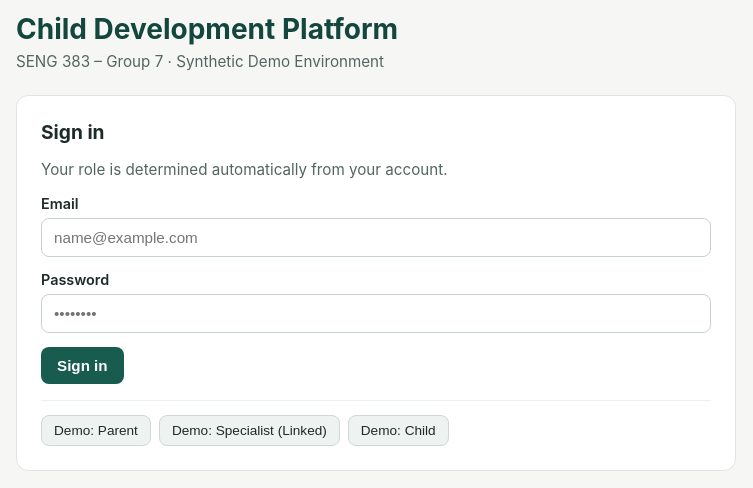
Scenario: M2 & M3 UI flows (Specialist Linking & Weekly Schedule) › allows child to view Tasks tab and mark a pending task as done
Click the button "Demo: Child".
click(398, 430)  # box [348, 415, 449, 446]
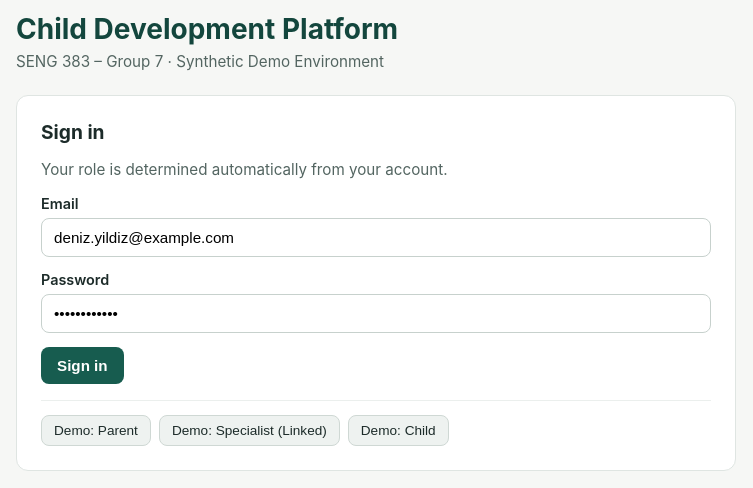
Click the button "Sign in".
click(82, 365)  # box [41, 347, 124, 384]
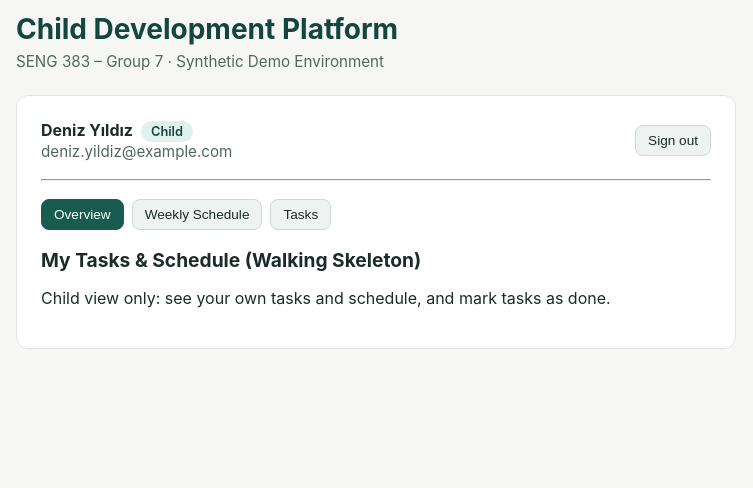
Click the button "Tasks".
click(301, 214)  # box [270, 199, 331, 230]
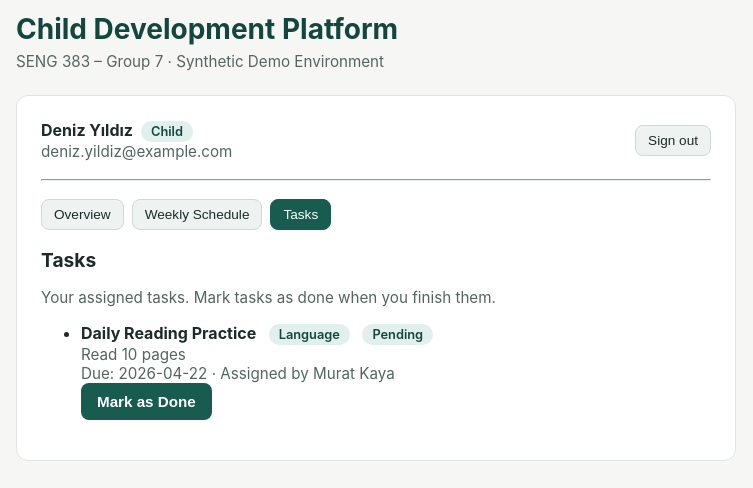
expect the text "Daily Reading Practice" is shown: met, box [81, 323, 256, 343]
Click the button "Mark as Done".
click(146, 401)  # box [81, 383, 212, 420]
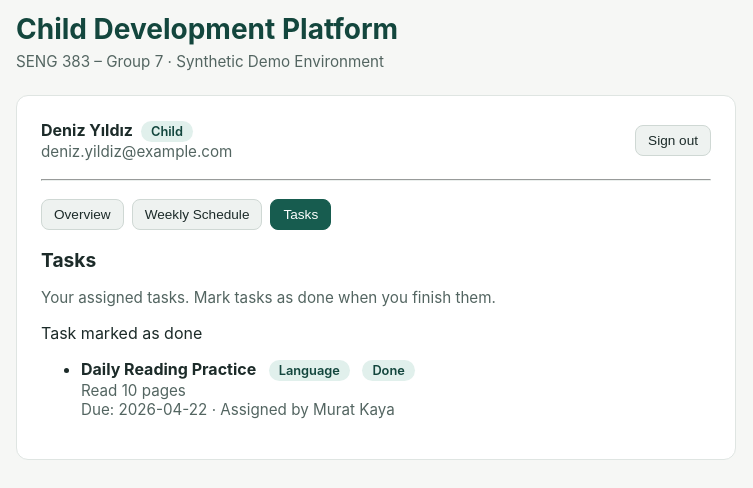
expect the text "Task marked as done" is shown: met, box [41, 323, 202, 343]
expect the button "Mark as Done" is gone: met
